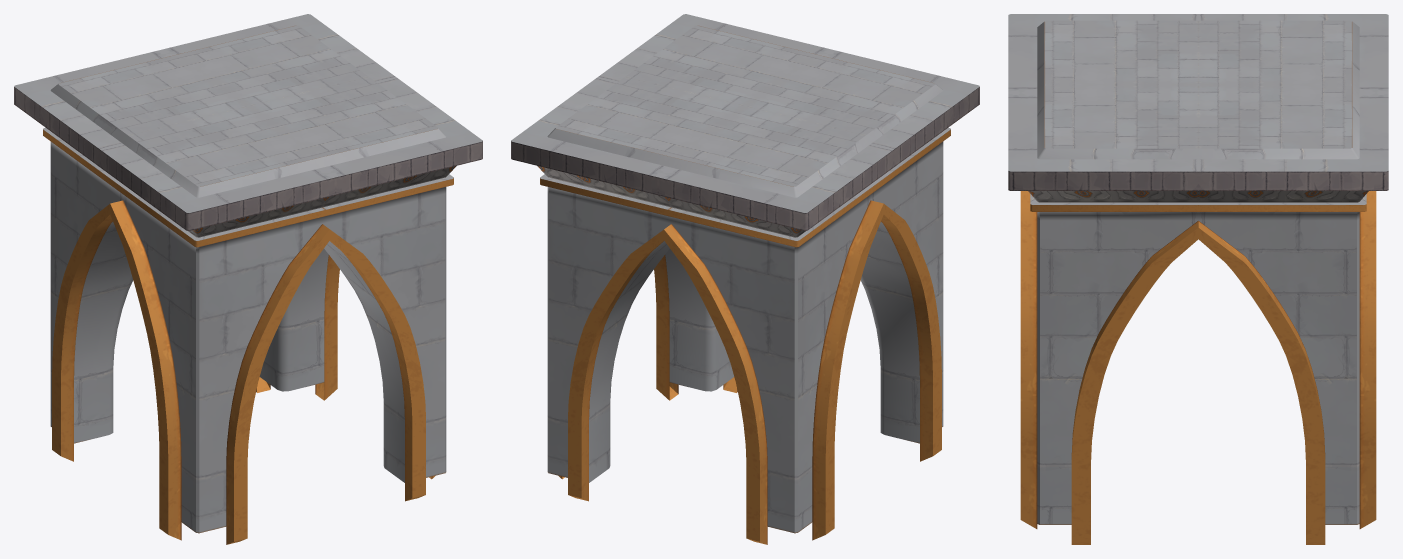
The model's file is SM_Arch_Tower.fbx.
3 renders of one model, left to right at view 1: azimuth 30°, elevation 25°; view 2: azimuth 150°, elevation 25°; view 3: azimuth 270°, elevation 25°, orthographic. The views are drawn at different scales.
Visible parts, largest first — view 1: SM_Arch_Tower; view 2: SM_Arch_Tower; view 3: SM_Arch_Tower.
Part boxes in pixels (<box>): SM_Arch_Tower: <box>14,14,482,544</box>; SM_Arch_Tower: <box>511,14,979,544</box>; SM_Arch_Tower: <box>1008,14,1388,544</box>.
Size of the model in its own units: 9.33 by 10.87 by 9.51.
